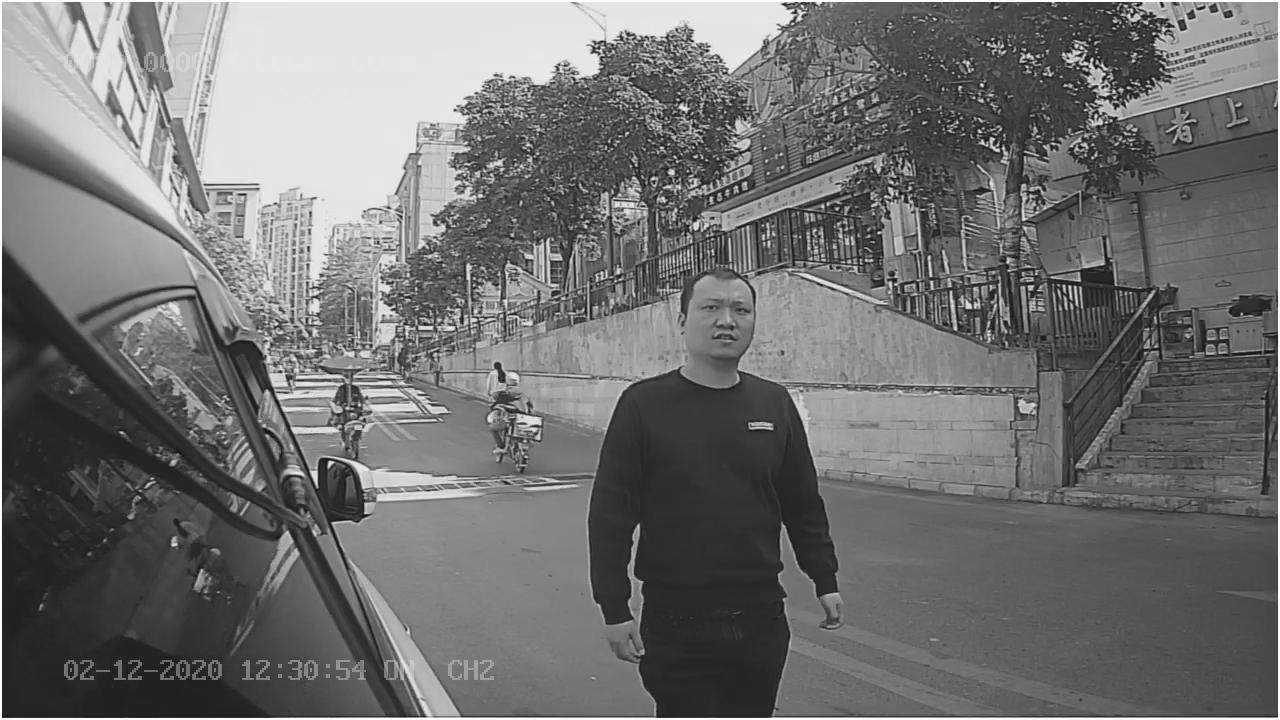person: (574, 254, 850, 666)
